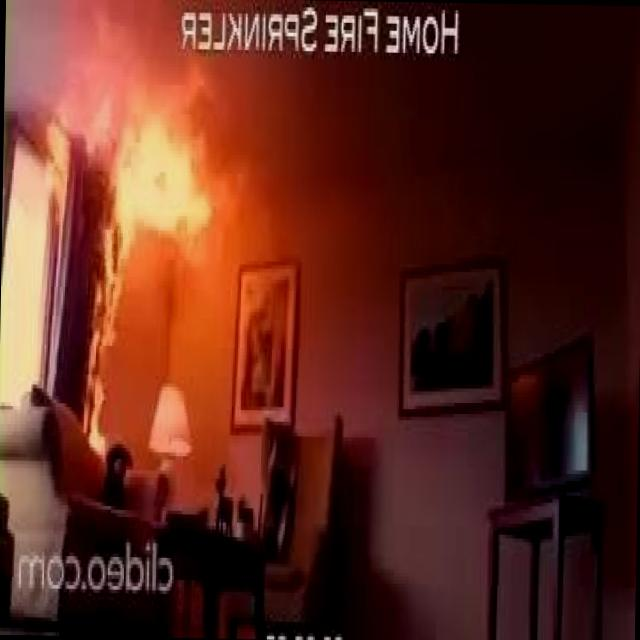fire: (96, 70, 230, 280)
